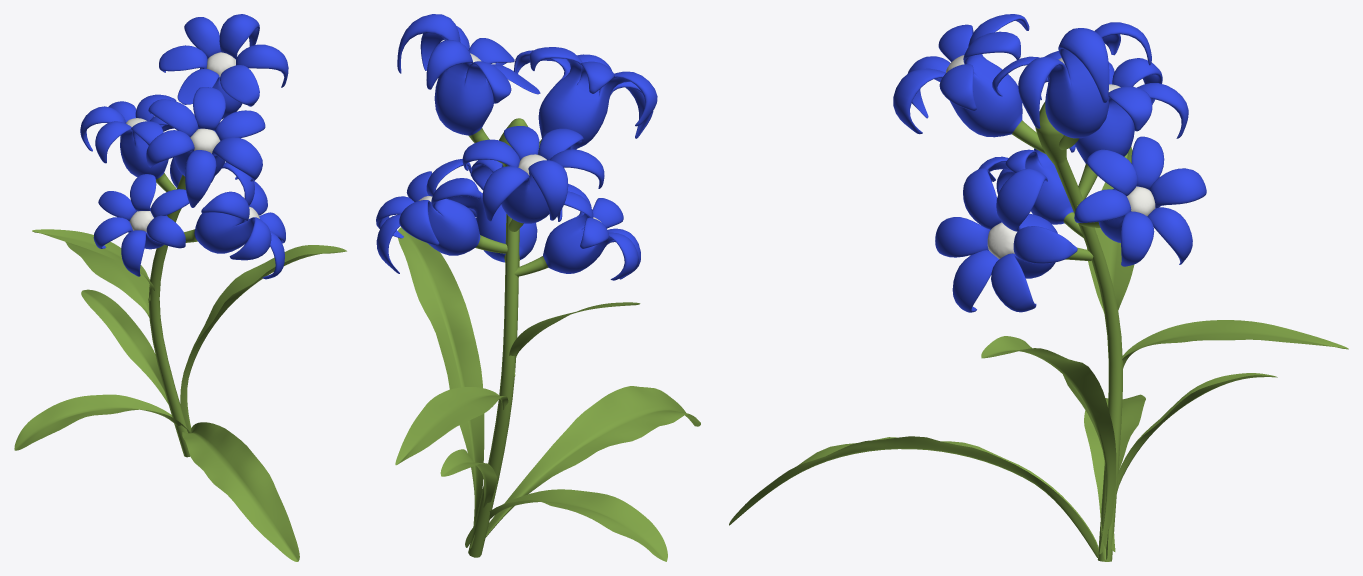
Rendered from object_EN-plants-bluebell_2.glb.
3 renders of one model, left to right at view 1: azimuth 30°, elevation 25°; view 2: azimuth 150°, elevation 25°; view 3: azimuth 270°, elevation 25°, orthographic. The views are drawn at different scales.
Parts seen in each view (by area): view 1: GEO-plants-bluebell-petals.031, GEO-plants-bluebell-petals.011, GEO-leaf.bluebell.007, GEO-plants-bluebell-petals.015, GEO-plants-bluebell-petals.014, GEO-plants-bluebell-petals.010, GEO-leaf.bluebell.008, GEO-leaf.bluebell.006, GEO-leaf.bluebell.005, GEO-plants-bluebell-stem.1, GEO-leaf.bluebell.009, GEO-leaf.bluebell.063; view 2: GEO-plants-bluebell-petals.011, GEO-plants-bluebell-petals.010, GEO-leaf.bluebell.006, GEO-leaf.bluebell.007, GEO-plants-bluebell-petals.013, GEO-plants-bluebell-petals.031, GEO-plants-bluebell-petals.014, GEO-plants-bluebell-stem.1, GEO-leaf.bluebell.008, GEO-leaf.bluebell.009, GEO-plants-bluebell-petals.015, GEO-leaf.bluebell.005 (+1 smaller); view 3: GEO-plants-bluebell-petals.015, GEO-plants-bluebell-petals.031, GEO-plants-bluebell-petals.013, GEO-plants-bluebell-petals.011, GEO-plants-bluebell-petals.010, GEO-plants-bluebell-stem.1, GEO-leaf.bluebell.007, GEO-leaf.bluebell.006, GEO-leaf.bluebell.009, GEO-plants-bluebell-petals.014, GEO-leaf.bluebell.008, GEO-leaf.bluebell.005 (+1 smaller).
Boxes of the visible parts, left/top/right/bottom form: GEO-plants-bluebell-petals.031: left=146, top=87, right=265, bottom=207; GEO-plants-bluebell-petals.011: left=159, top=14, right=288, bottom=118; GEO-leaf.bluebell.007: left=182, top=422, right=299, bottom=561; GEO-plants-bluebell-petals.015: left=184, top=162, right=285, bottom=279; GEO-plants-bluebell-petals.014: left=93, top=174, right=189, bottom=276; GEO-plants-bluebell-petals.010: left=80, top=94, right=176, bottom=191; GEO-leaf.bluebell.008: left=14, top=394, right=190, bottom=450; GEO-leaf.bluebell.006: left=180, top=245, right=346, bottom=431; GEO-leaf.bluebell.005: left=81, top=289, right=168, bottom=403; GEO-plants-bluebell-stem.1: left=148, top=174, right=190, bottom=457; GEO-leaf.bluebell.009: left=65, top=241, right=149, bottom=317; GEO-leaf.bluebell.063: left=32, top=229, right=154, bottom=300; GEO-plants-bluebell-petals.011: left=397, top=14, right=540, bottom=163; GEO-plants-bluebell-petals.010: left=462, top=126, right=604, bottom=231; GEO-leaf.bluebell.006: left=398, top=227, right=484, bottom=526; GEO-leaf.bluebell.007: left=485, top=386, right=700, bottom=537; GEO-plants-bluebell-petals.013: left=376, top=159, right=507, bottom=273; GEO-plants-bluebell-petals.031: left=513, top=47, right=657, bottom=154; GEO-plants-bluebell-petals.014: left=514, top=183, right=640, bottom=280; GEO-plants-bluebell-stem.1: left=468, top=118, right=527, bottom=557; GEO-leaf.bluebell.008: left=465, top=489, right=667, bottom=561; GEO-leaf.bluebell.009: left=395, top=387, right=508, bottom=465; GEO-plants-bluebell-petals.015: left=447, top=159, right=562, bottom=277; GEO-leaf.bluebell.005: left=440, top=449, right=497, bottom=548; GEO-plants-bluebell-petals.015: left=935, top=168, right=1093, bottom=312; GEO-plants-bluebell-petals.031: left=893, top=14, right=1045, bottom=153; GEO-plants-bluebell-petals.013: left=1074, top=136, right=1206, bottom=266; GEO-plants-bluebell-petals.011: left=992, top=22, right=1151, bottom=149; GEO-plants-bluebell-petals.010: left=1040, top=58, right=1188, bottom=205; GEO-plants-bluebell-stem.1: left=1035, top=101, right=1122, bottom=561; GEO-leaf.bluebell.007: left=729, top=436, right=1098, bottom=557; GEO-leaf.bluebell.006: left=981, top=336, right=1116, bottom=554; GEO-leaf.bluebell.009: left=1122, top=320, right=1348, bottom=368; GEO-plants-bluebell-petals.014: left=978, top=144, right=1083, bottom=237; GEO-leaf.bluebell.008: left=1084, top=394, right=1145, bottom=559; GEO-leaf.bluebell.005: left=1111, top=373, right=1277, bottom=551.
Size of the model in its own units: 0.1743 by 0.261 by 0.2628.
